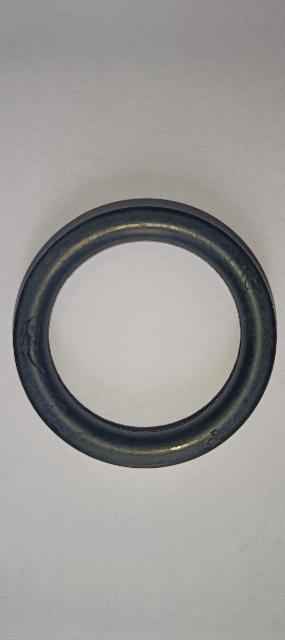4: (20, 314, 47, 374)
crack: (207, 428, 221, 446)
